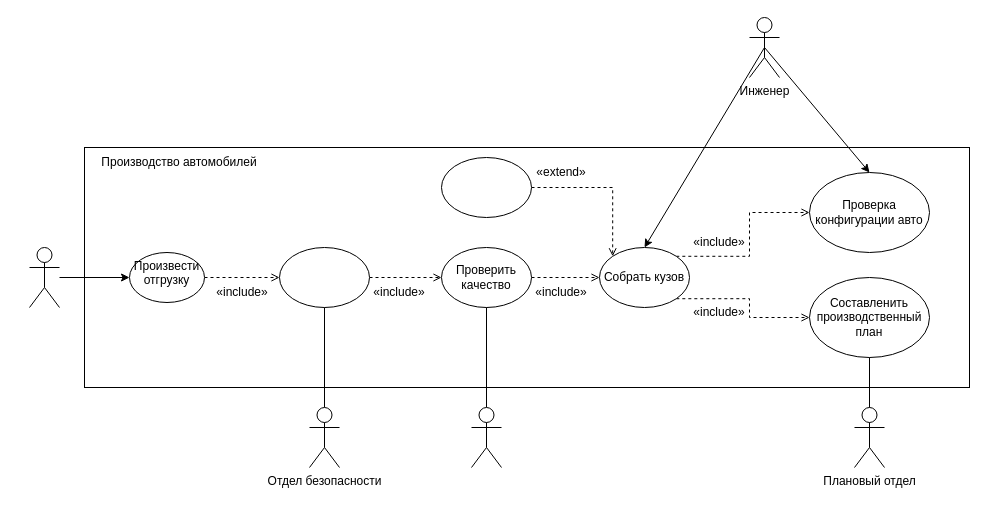
This 987x506 diagram has some shape labels left out. The shapes that lost their labels are listed below. From the top down, each one's box as (x1, y1, x2, y2) in pixels, then its label:
(440, 156, 532, 218): Добавить комплектацию
(28, 246, 60, 308): Оператор
(278, 246, 370, 308): Проверить безопасность
(470, 406, 502, 468): Отдел контроля качества
